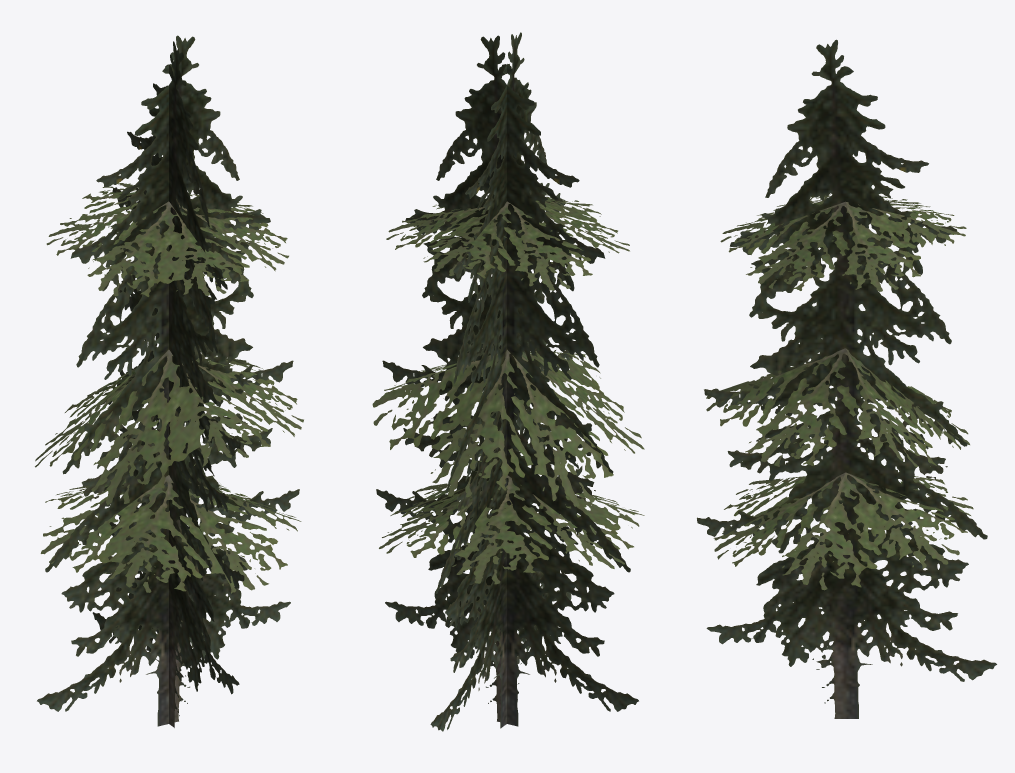
Rendered from smrk_k3.glb.
3 renders of one model, left to right at view 1: azimuth 30°, elevation 25°; view 2: azimuth 150°, elevation 25°; view 3: azimuth 270°, elevation 25°, orthographic.
Parts seen in each view (by area): view 1: Background_Tree_Atlas.002_Background_Tree_Atlas_0; view 2: Background_Tree_Atlas.002_Background_Tree_Atlas_0; view 3: Background_Tree_Atlas.002_Background_Tree_Atlas_0.
Boxes of the visible parts, x1=… form: Background_Tree_Atlas.002_Background_Tree_Atlas_0: x1=35, y1=35, x2=303, y2=727; Background_Tree_Atlas.002_Background_Tree_Atlas_0: x1=372, y1=32, x2=644, y2=731; Background_Tree_Atlas.002_Background_Tree_Atlas_0: x1=697, y1=39, x2=996, y2=718.
Size of the model in its own units: 4.98 by 12.21 by 4.98.
Materials: 1 (1 with a texture image).
